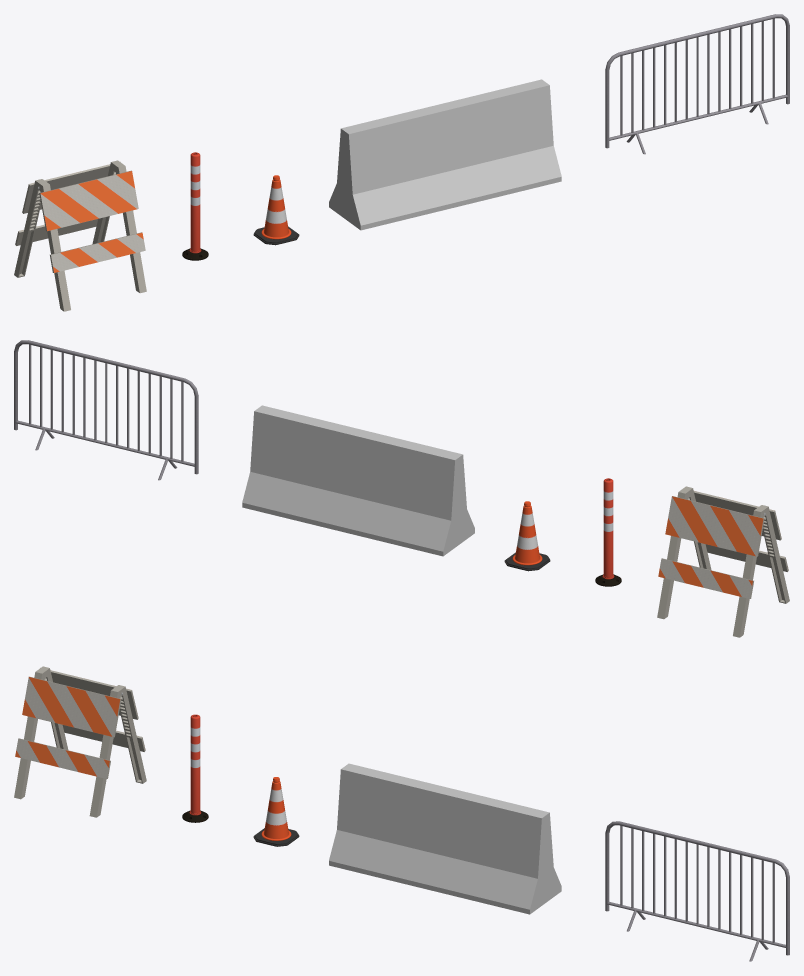
File: traffic.fbx
3 renders of one model, top to bottom at view 1: azimuth 30°, elevation 25°; view 2: azimuth 150°, elevation 25°; view 3: azimuth 330°, elevation 25°, orthographic.
Visible parts, largest first — view 1: concrete_barrier_low, barricade_low, barrier_low, cone_low, delineator_low; view 2: concrete_barrier_low, barricade_low, barrier_low, cone_low, delineator_low; view 3: concrete_barrier_low, barricade_low, barrier_low, cone_low, delineator_low.
Part boxes in pixels (left/top/right/bottom): concrete_barrier_low: left=329, top=79, right=561, bottom=230; barricade_low: left=14, top=160, right=146, bottom=311; barrier_low: left=605, top=14, right=789, bottom=154; cone_low: left=253, top=175, right=299, bottom=245; delineator_low: left=182, top=152, right=208, bottom=260; concrete_barrier_low: left=242, top=405, right=474, bottom=556; barricade_low: left=657, top=486, right=789, bottom=637; barrier_low: left=14, top=340, right=198, bottom=480; cone_low: left=504, top=501, right=550, bottom=571; delineator_low: left=595, top=478, right=621, bottom=586; concrete_barrier_low: left=329, top=763, right=561, bottom=914; barricade_low: left=14, top=666, right=146, bottom=817; barrier_low: left=605, top=821, right=789, bottom=961; cone_low: left=253, top=777, right=299, bottom=846; delineator_low: left=182, top=714, right=208, bottom=822.
Size of the model in its own units: 731 by 102 by 84.24.
